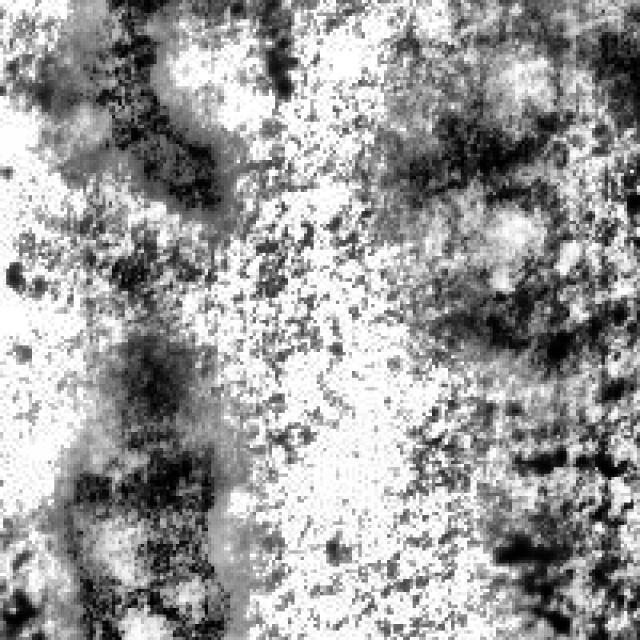Scratches: (51, 329, 237, 636), (28, 0, 230, 214), (384, 80, 570, 230), (448, 250, 570, 384), (506, 0, 630, 112)
